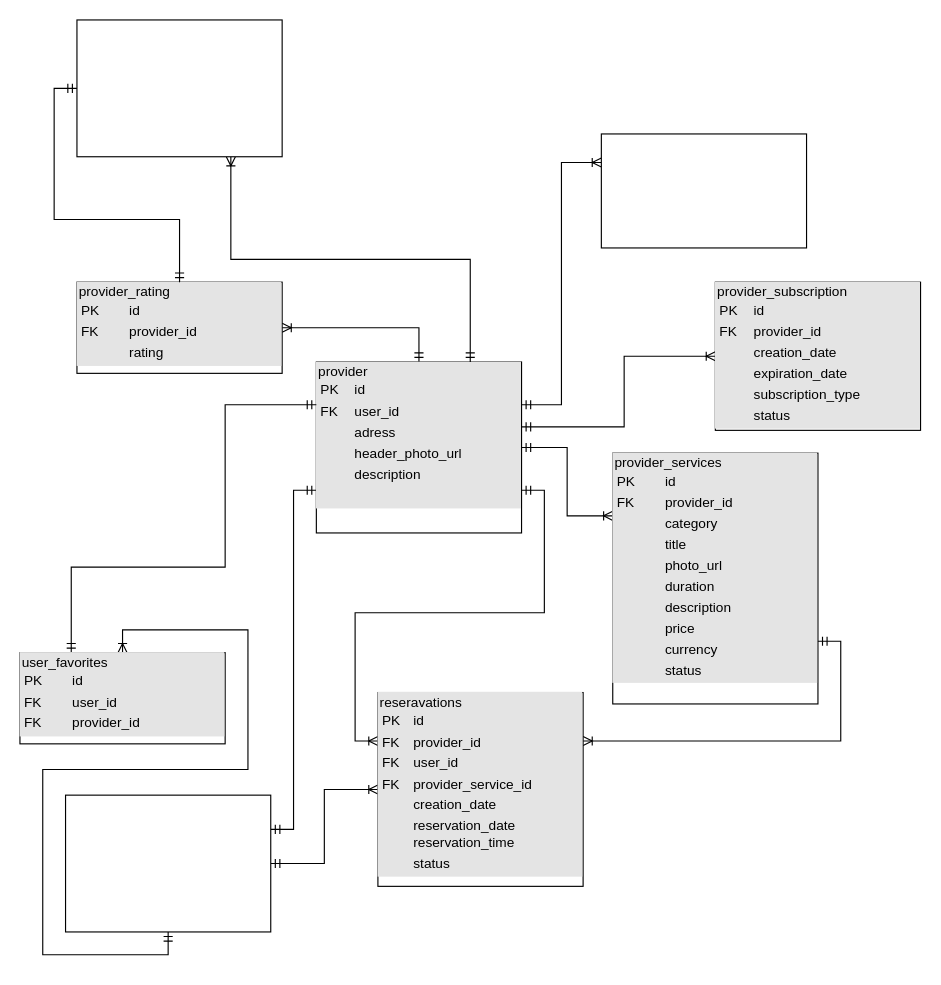
This 941x985 diagram has some shape labels left out. Here are the shapes that lost their labels. From the top down, the centre of each, then its label:
At point (179, 88): "provider_reviews PK id FK provider_id FK rating_id text creation_date".
At point (703, 190): "provider_contacts PK id FK provider_id contact_type data".
At point (167, 863): "user PK id telegram_id username photo_url language_code".
